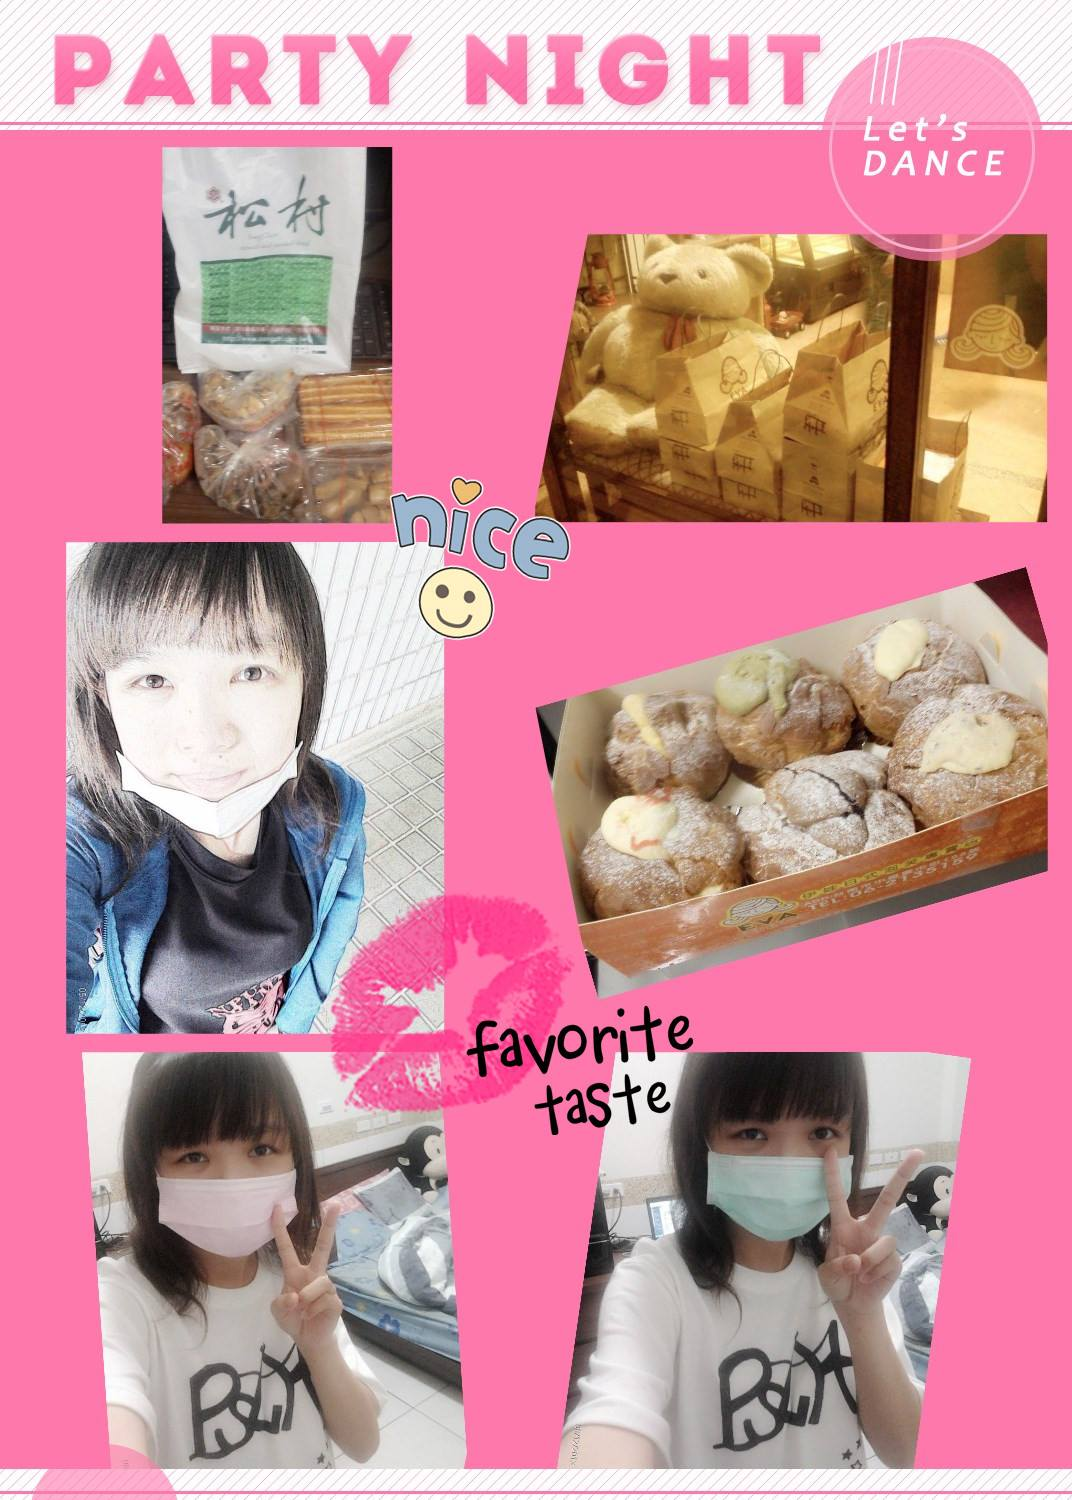face: (101, 547, 305, 816)
face_mask: (712, 1055, 851, 1245), (162, 1101, 295, 1256)
